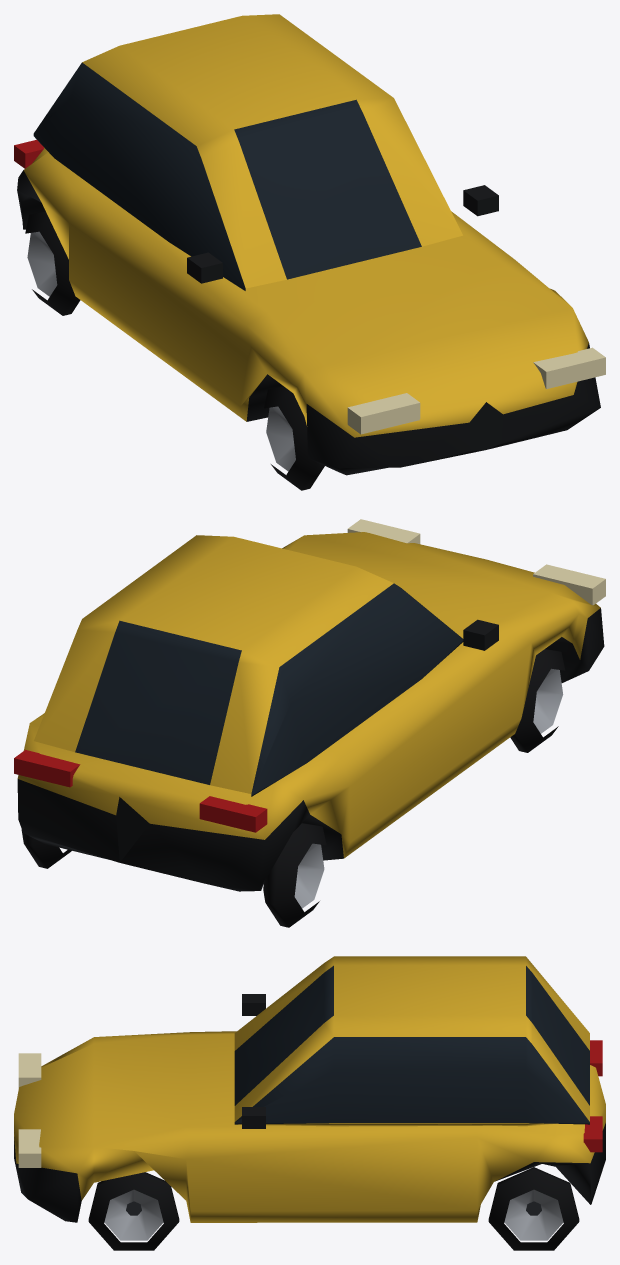
Rendered from mobile-low.glb.
The picture shows the model from 3 angles, top to bottom: view 1: azimuth 30°, elevation 25°; view 2: azimuth 150°, elevation 25°; view 3: azimuth 270°, elevation 25°; orthographic projection. The views are drawn at different scales.
Visible parts, largest first — view 1: body, tyre_fr, light_head_r, tyre_rr, light_head_l, rim_rr, rim_fr; view 2: body, tyre_rr, tyre_fr, light_brake_r, light_brake_l, light_head_r, rim_fr, rim_rr, light_head_l, tyre_rl; view 3: body, tyre_rl, tyre_fl, rim_fl, rim_rl, light_head_l, light_head_r, light_brake_l, light_brake_r.
Boxes of the visible parts, x1,y1,x2,y2 form: body: (17, 14, 600, 475); tyre_fr: (264, 386, 324, 490); light_head_r: (347, 393, 420, 434); tyre_rr: (25, 211, 80, 315); light_head_l: (533, 347, 605, 389); rim_rr: (27, 231, 57, 296); rim_fr: (266, 406, 295, 471); body: (17, 532, 604, 891); tyre_rr: (263, 823, 326, 927); tyre_fr: (510, 648, 565, 752); light_brake_r: (199, 796, 267, 832); light_brake_l: (14, 750, 80, 787); light_head_r: (533, 564, 605, 605); rim_fr: (533, 668, 563, 733); rim_rr: (294, 843, 324, 908); light_head_l: (347, 519, 420, 543); tyre_rl: (21, 829, 71, 868); body: (14, 956, 605, 1222); tyre_rl: (488, 1167, 579, 1250); tyre_fl: (88, 1172, 179, 1250); rim_fl: (104, 1189, 163, 1240); rim_rl: (504, 1189, 563, 1240); light_head_l: (18, 1129, 41, 1167); light_head_r: (18, 1053, 41, 1088); light_brake_l: (583, 1116, 602, 1152); light_brake_r: (590, 1040, 602, 1076).
Size of what is drawn, in the model's own units: 1.8 by 1.44 by 3.7.
